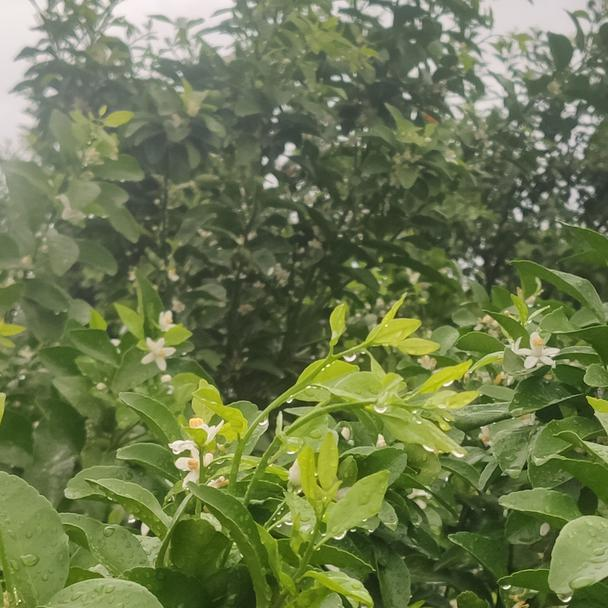shoot: (274, 311, 461, 459), (291, 453, 390, 599)
